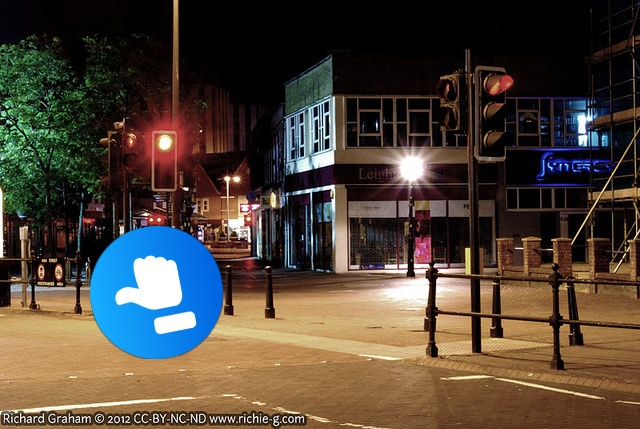like: (90, 226, 223, 359)
